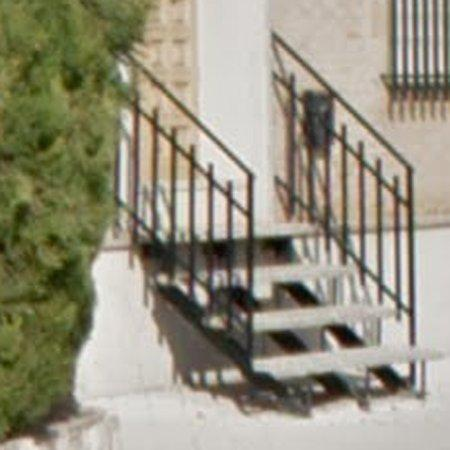stairs: (117, 96, 432, 392)
